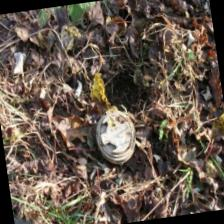M14: (95, 110, 138, 166)
